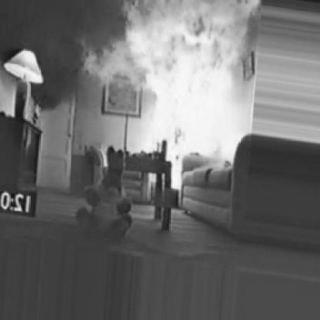Fire: (114, 11, 248, 153)
